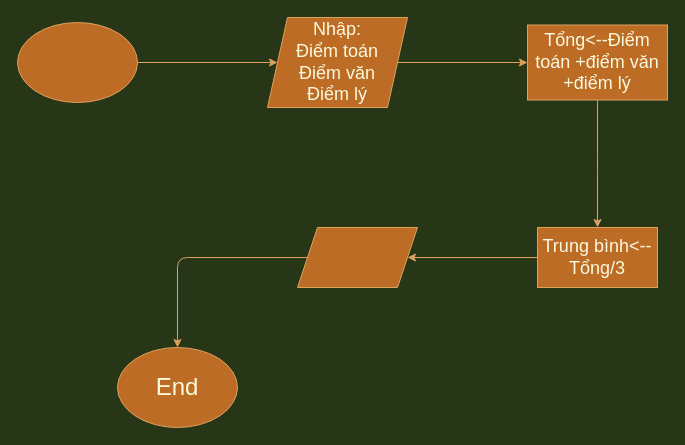
Some shapes in this 685 by 445 pixel diagram are drawn without their labels. The centre of each missing label's shape, as x and y in pixels:
"Begin" belongs at (x=77, y=62).
"Tổng Trung bình" belongs at (x=357, y=257).
